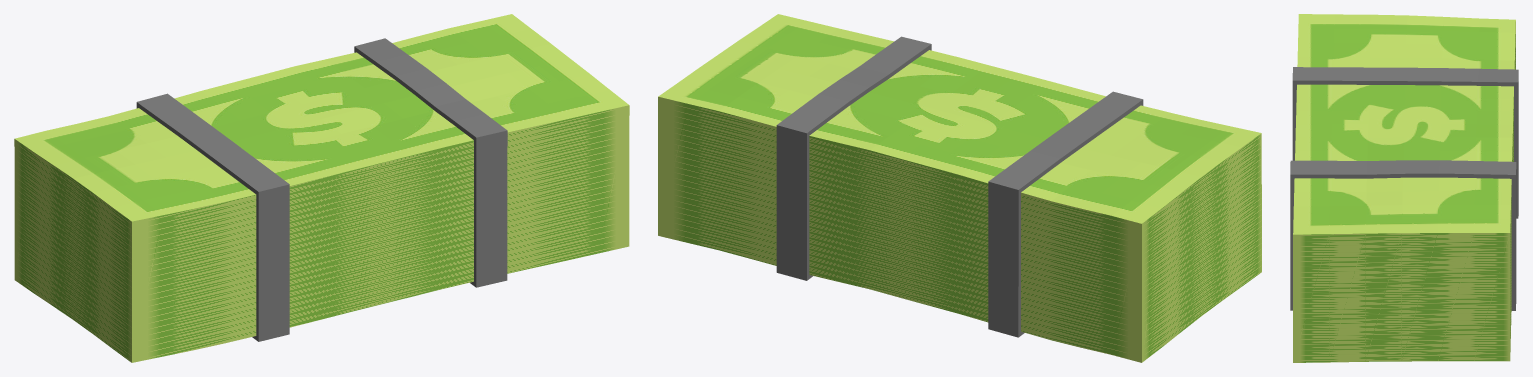
The model's file is money2.fbx.
The picture shows the model from 3 angles, left to right: view 1: azimuth 30°, elevation 25°; view 2: azimuth 150°, elevation 25°; view 3: azimuth 270°, elevation 25°; orthographic projection. The views are drawn at different scales.
Parts seen in each view (by area): view 1: Object002; view 2: Object002; view 3: Object002.
Boxes of the visible parts, box(x1,y1,x2,y2) form: Object002: box(14, 14, 629, 362); Object002: box(658, 14, 1261, 362); Object002: box(1290, 14, 1518, 362).
Size of the model in its own units: 2397 by 718 by 1053.
Materials: 2 (1 with a texture image).
